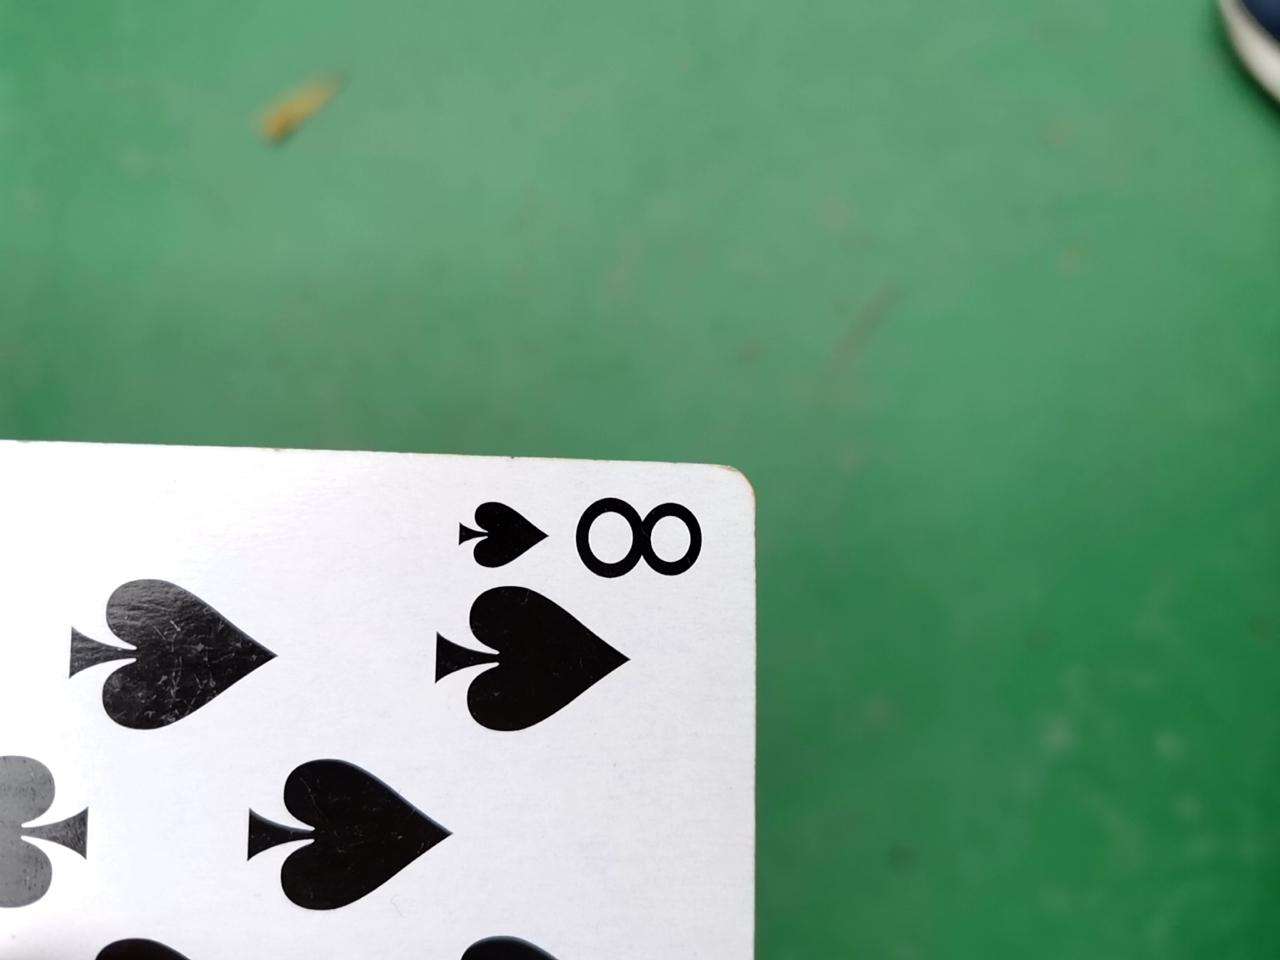ht 8: (0, 419, 794, 958)
